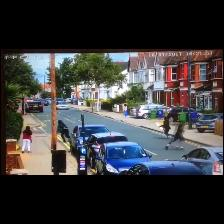person: (166, 123, 184, 150), (22, 126, 32, 153), (57, 120, 69, 142), (159, 117, 170, 138), (124, 104, 127, 117)
